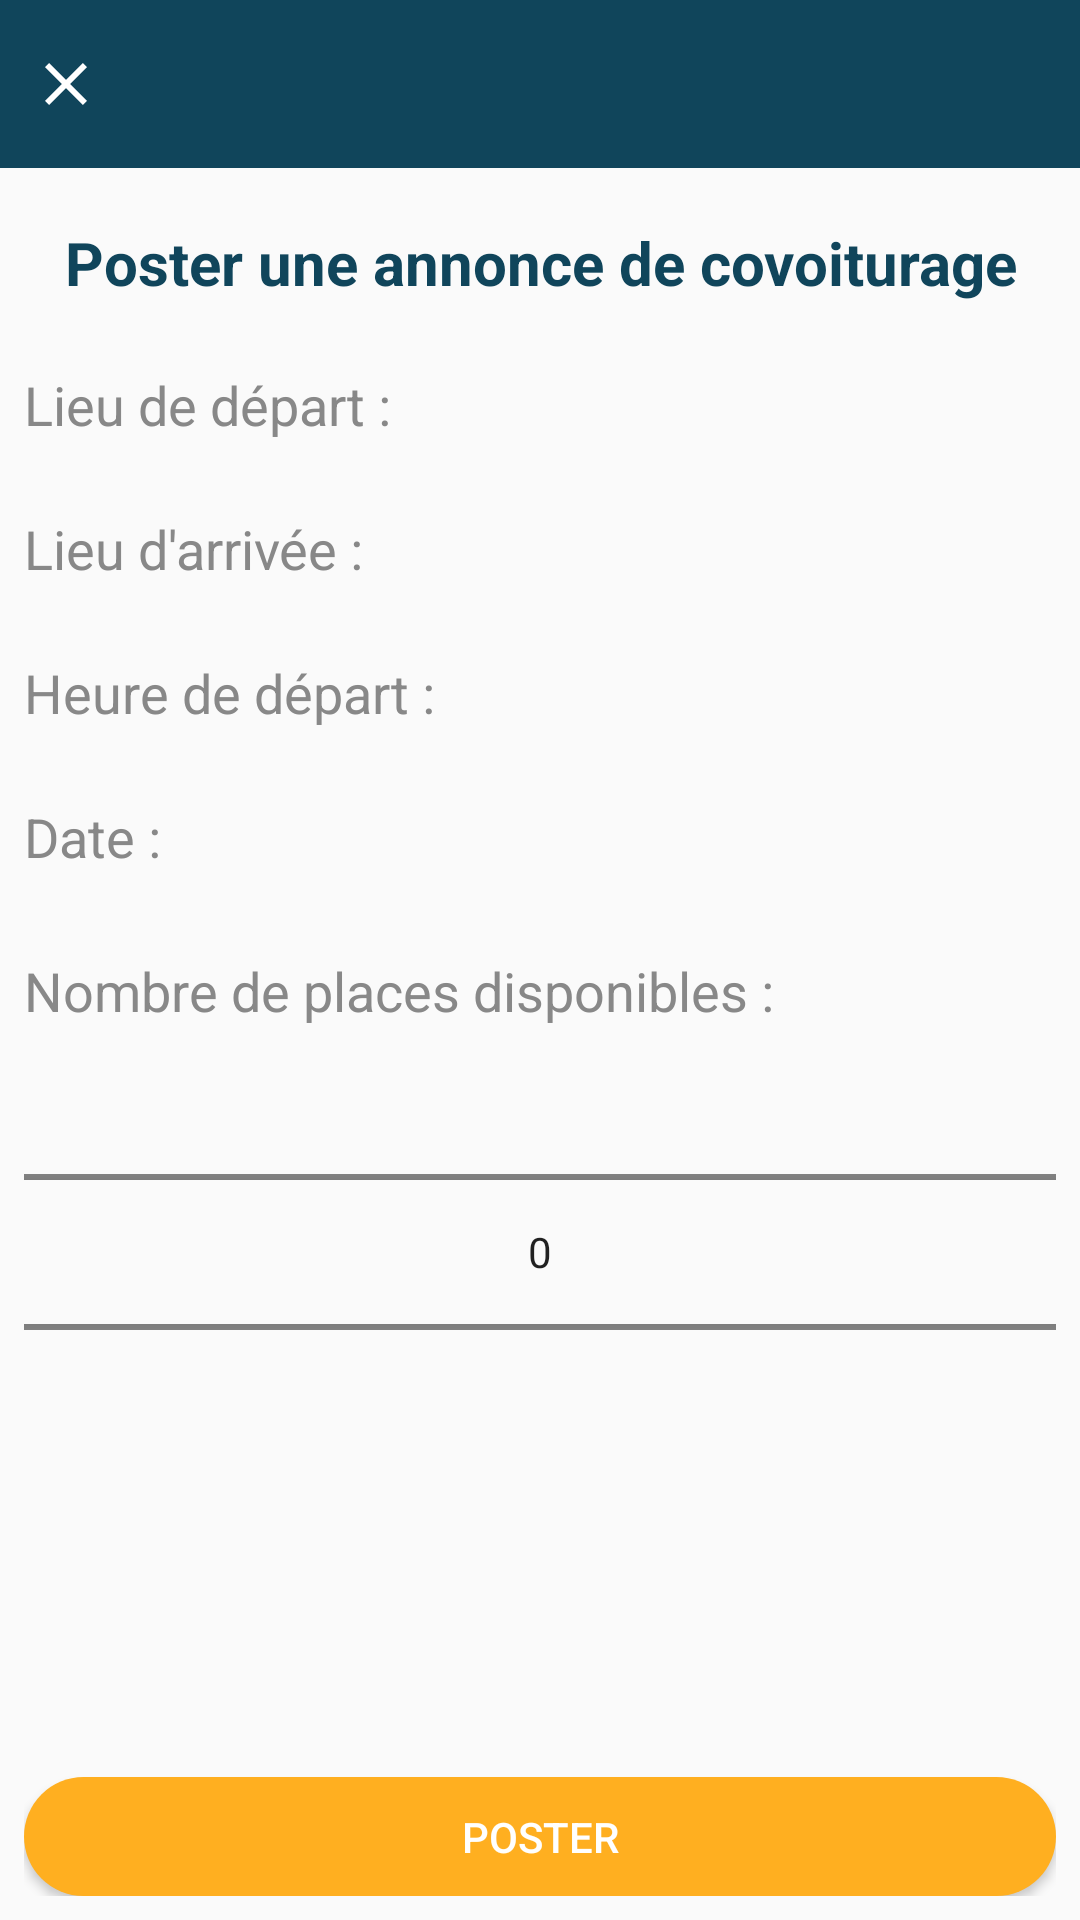

Icons on this 1080×1920 Android screen, each with the point to tap as (x,y):
close: (66,84)
